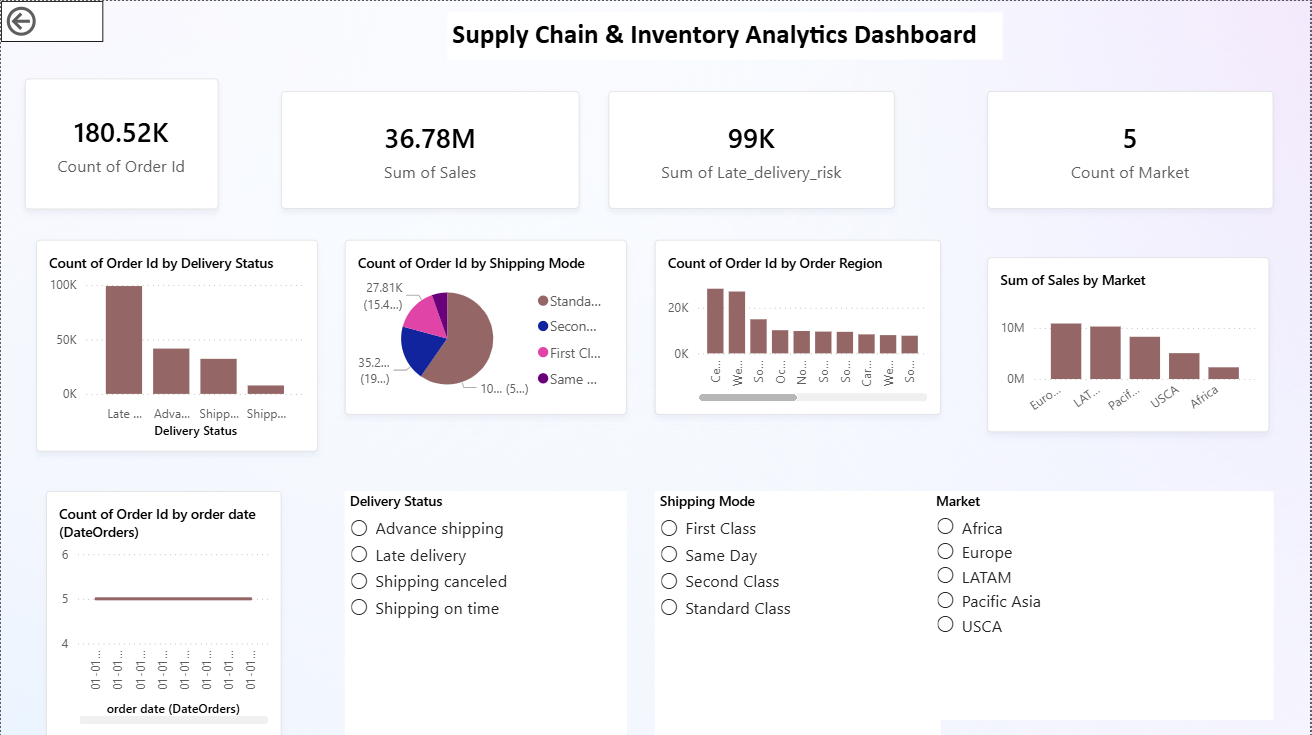

The dashboard page shown, as its layout file describes it:
{"tool":"powerbi","page":{"name":"Page 1","canvas":[1280,720],"ordinal":0},"visuals":[{"type":"card","fields":{"Values":["CountNonNull(supply_chain_cleaned.Order Id)"]},"box":[23.2,74.6,166.3,92.9],"z":0},{"type":"card","fields":{"Values":["Sum(supply_chain_cleaned.Sales)"]},"box":[201.8,74.6,140.6,92.9],"z":1000},{"type":"actionButton","box":[0,0,100,40],"z":2000},{"type":"columnChart","fields":{"Y":["CountNonNull(supply_chain_cleaned.Order Id)"],"Category":["supply_chain_cleaned.Delivery Status"]},"box":[9.8,196.9,275.1,207.9],"z":3000},{"type":"card","fields":{"Values":["Sum(supply_chain_cleaned.Late_delivery_risk)"]},"box":[351,73.4,215.2,95.4],"z":4000},{"type":"card","fields":{"Values":["Count(supply_chain_cleaned.Market)"]},"box":[574.7,77,154.1,90.5],"z":5000},{"type":"pieChart","fields":{"Category":["supply_chain_cleaned.Shipping Mode"],"Y":["CountNonNull(supply_chain_cleaned.Order Id)"]},"box":[330.2,205.4,275.1,199.3],"z":6000},{"type":"clusteredColumnChart","fields":{"Category":["supply_chain_cleaned.Order Region"],"Y":["CountNonNull(supply_chain_cleaned.Order Id)"]},"box":[639.5,205.4,280,199.3],"z":7000},{"type":"clusteredColumnChart","fields":{"Category":["supply_chain_cleaned.Market"],"Y":["Sum(supply_chain_cleaned.Sales)"]},"box":[950.1,205.4,304.5,199.3],"z":8000},{"type":"lineChart","fields":{"Category":["supply_chain_cleaned.order date (DateOrders)"],"Y":["CountNonNull(supply_chain_cleaned.Order Id)"]},"box":[9.6,432.2,230.5,241.5],"z":9000},{"type":"listSlicer","fields":{"Values":["supply_chain_cleaned.Delivery Status"]},"box":[284.9,431.7,276.4,242.1],"z":10000},{"type":"listSlicer","fields":{"Values":["supply_chain_cleaned.Shipping Mode"]},"box":[588.2,431.7,280,242.1],"z":11000},{"type":"listSlicer","fields":{"Values":["supply_chain_cleaned.Market"]},"box":[900,431.7,333.8,223.8],"z":12000},{"type":"textbox","box":[436.4,11,543.4,46.7],"z":13000},{"type":"card","fields":{"Values":["supply_chain_cleaned.Late Delivery %"]},"box":[738.6,77,198.1,90.5],"z":14000},{"type":"card","fields":{"Values":["supply_chain_cleaned.Avg Delay Days"]},"box":[1101.8,74.6,167.5,97.8],"z":15000},{"type":"card","fields":{"Values":["supply_chain_cleaned.Total Profit"]},"box":[950.1,77,139.4,92.9],"z":16000}]}

Visuals, with their boxes in screenshot pixels (x1, y1, x2, y2), scaled from the page's 1280x720 canvas onto the 1312x735 screenshot:
card - CountNonNull(supply_chain_cleaned.Order Id): 24/76/194/171
card - Sum(supply_chain_cleaned.Sales): 207/76/351/171
actionButton: 0/0/102/41
columnChart - CountNonNull(supply_chain_cleaned.Order Id) x supply_chain_cleaned.Delivery Status: 10/201/292/413
card - Sum(supply_chain_cleaned.Late_delivery_risk): 360/75/580/172
card - Count(supply_chain_cleaned.Market): 589/79/747/171
pieChart - supply_chain_cleaned.Shipping Mode x CountNonNull(supply_chain_cleaned.Order Id): 338/210/620/413
clusteredColumnChart - supply_chain_cleaned.Order Region x CountNonNull(supply_chain_cleaned.Order Id): 655/210/942/413
clusteredColumnChart - supply_chain_cleaned.Market x Sum(supply_chain_cleaned.Sales): 974/210/1286/413
lineChart - supply_chain_cleaned.order date (DateOrders) x CountNonNull(supply_chain_cleaned.Order Id): 10/441/246/688
listSlicer - supply_chain_cleaned.Delivery Status: 292/441/575/688
listSlicer - supply_chain_cleaned.Shipping Mode: 603/441/890/688
listSlicer - supply_chain_cleaned.Market: 922/441/1265/669
textbox: 447/11/1004/59
card - supply_chain_cleaned.Late Delivery %: 757/79/960/171
card - supply_chain_cleaned.Avg Delay Days: 1129/76/1301/176
card - supply_chain_cleaned.Total Profit: 974/79/1117/173
